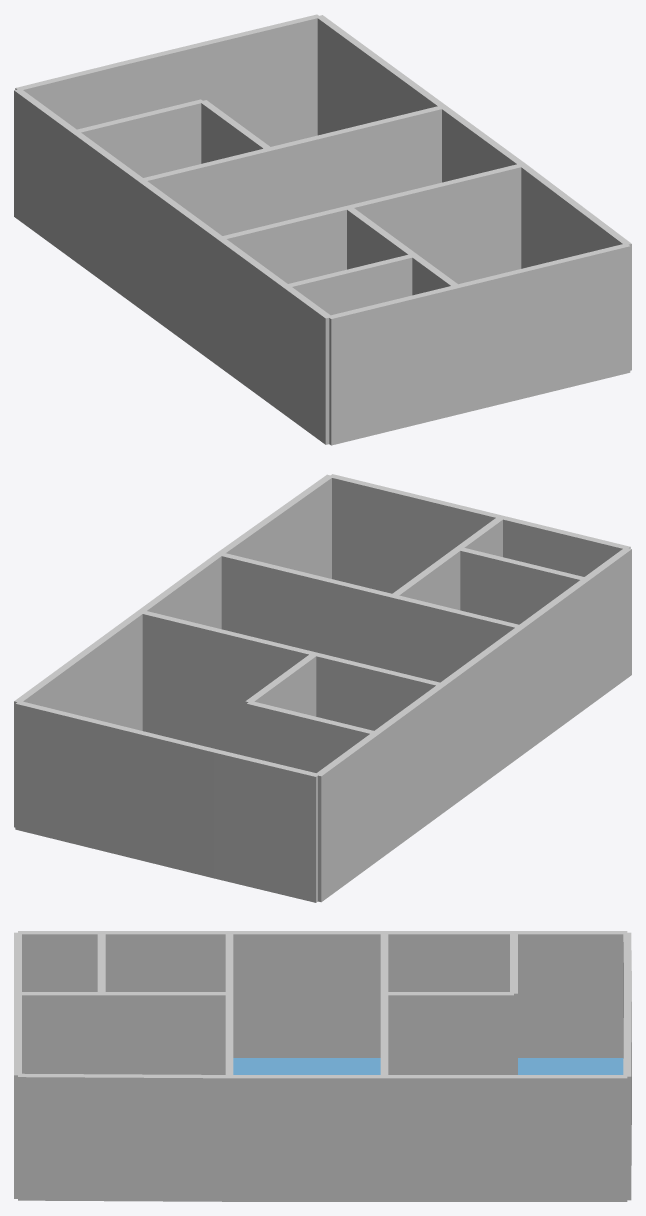
File: native_house.glb
3 views of the same model, one above another, from view 1: azimuth 30°, elevation 25°; view 2: azimuth 150°, elevation 25°; view 3: azimuth 270°, elevation 25° (orthographic). The views are drawn at different scales.
Visible parts, largest first — view 1: Cube.004, Cube, Cube.019, Cube.014, Cube.006, Cube.011, Cube.012, Cube.008, Cube.017, Cube.018, Cube.015, Cube.003 (+9 smaller); view 2: Cube.019, Cube.014, Cube.020, Cube.006, Cube.004, Cube.011, Cube.012, Cube.008, Cube.018, Cube.017, Cube.009, Cube.005 (+9 smaller); view 3: Cube.017, Cube.005, Cube.010, Cube.011, Cube.018, Cube.016, Cube.007, Cube.012, Cube.008, Cube.001, Cube.003, Floor_a-1769671354882-mruobhhi (+11 smaller).
Part boxes in pixels (x1,y1,x2,y2): Cube.004: [457, 243, 630, 414]; Cube: [327, 285, 458, 445]; Cube.019: [117, 14, 318, 146]; Cube.014: [269, 105, 444, 223]; Cube.006: [347, 164, 521, 284]; Cube.011: [138, 180, 223, 365]; Cube.012: [72, 132, 142, 307]; Cube.008: [217, 237, 289, 413]; Cube.017: [316, 15, 446, 135]; Cube.018: [14, 88, 76, 258]; Cube.015: [140, 148, 271, 235]; Cube.003: [283, 286, 332, 444]; Cube.019: [15, 701, 217, 878]; Cube.014: [139, 611, 316, 755]; Cube.020: [214, 749, 319, 902]; Cube.006: [218, 552, 394, 670]; Cube.004: [329, 474, 502, 593]; Cube.011: [438, 627, 524, 811]; Cube.012: [372, 684, 445, 859]; Cube.008: [519, 579, 589, 753]; Cube.018: [315, 732, 379, 902]; Cube.017: [14, 611, 142, 827]; Cube.009: [391, 595, 522, 682]; Cube.005: [217, 474, 333, 578]; Cube.017: [384, 1075, 627, 1201]; Cube.005: [18, 1073, 229, 1201]; Cube.010: [229, 1075, 384, 1201]; Cube.011: [229, 931, 384, 1057]; Cube.018: [514, 931, 627, 1057]; Cube.016: [384, 992, 513, 1074]; Cube.007: [101, 992, 229, 1074]; Cube.012: [384, 931, 513, 991]; Cube.008: [101, 931, 229, 991]; Cube.001: [18, 992, 101, 1074]; Cube.003: [18, 931, 101, 991]; Floor_a-1769671354882-mruobhhi: [233, 1058, 380, 1074].
Size of the model in its own units: 664 by 260 by 1179.
